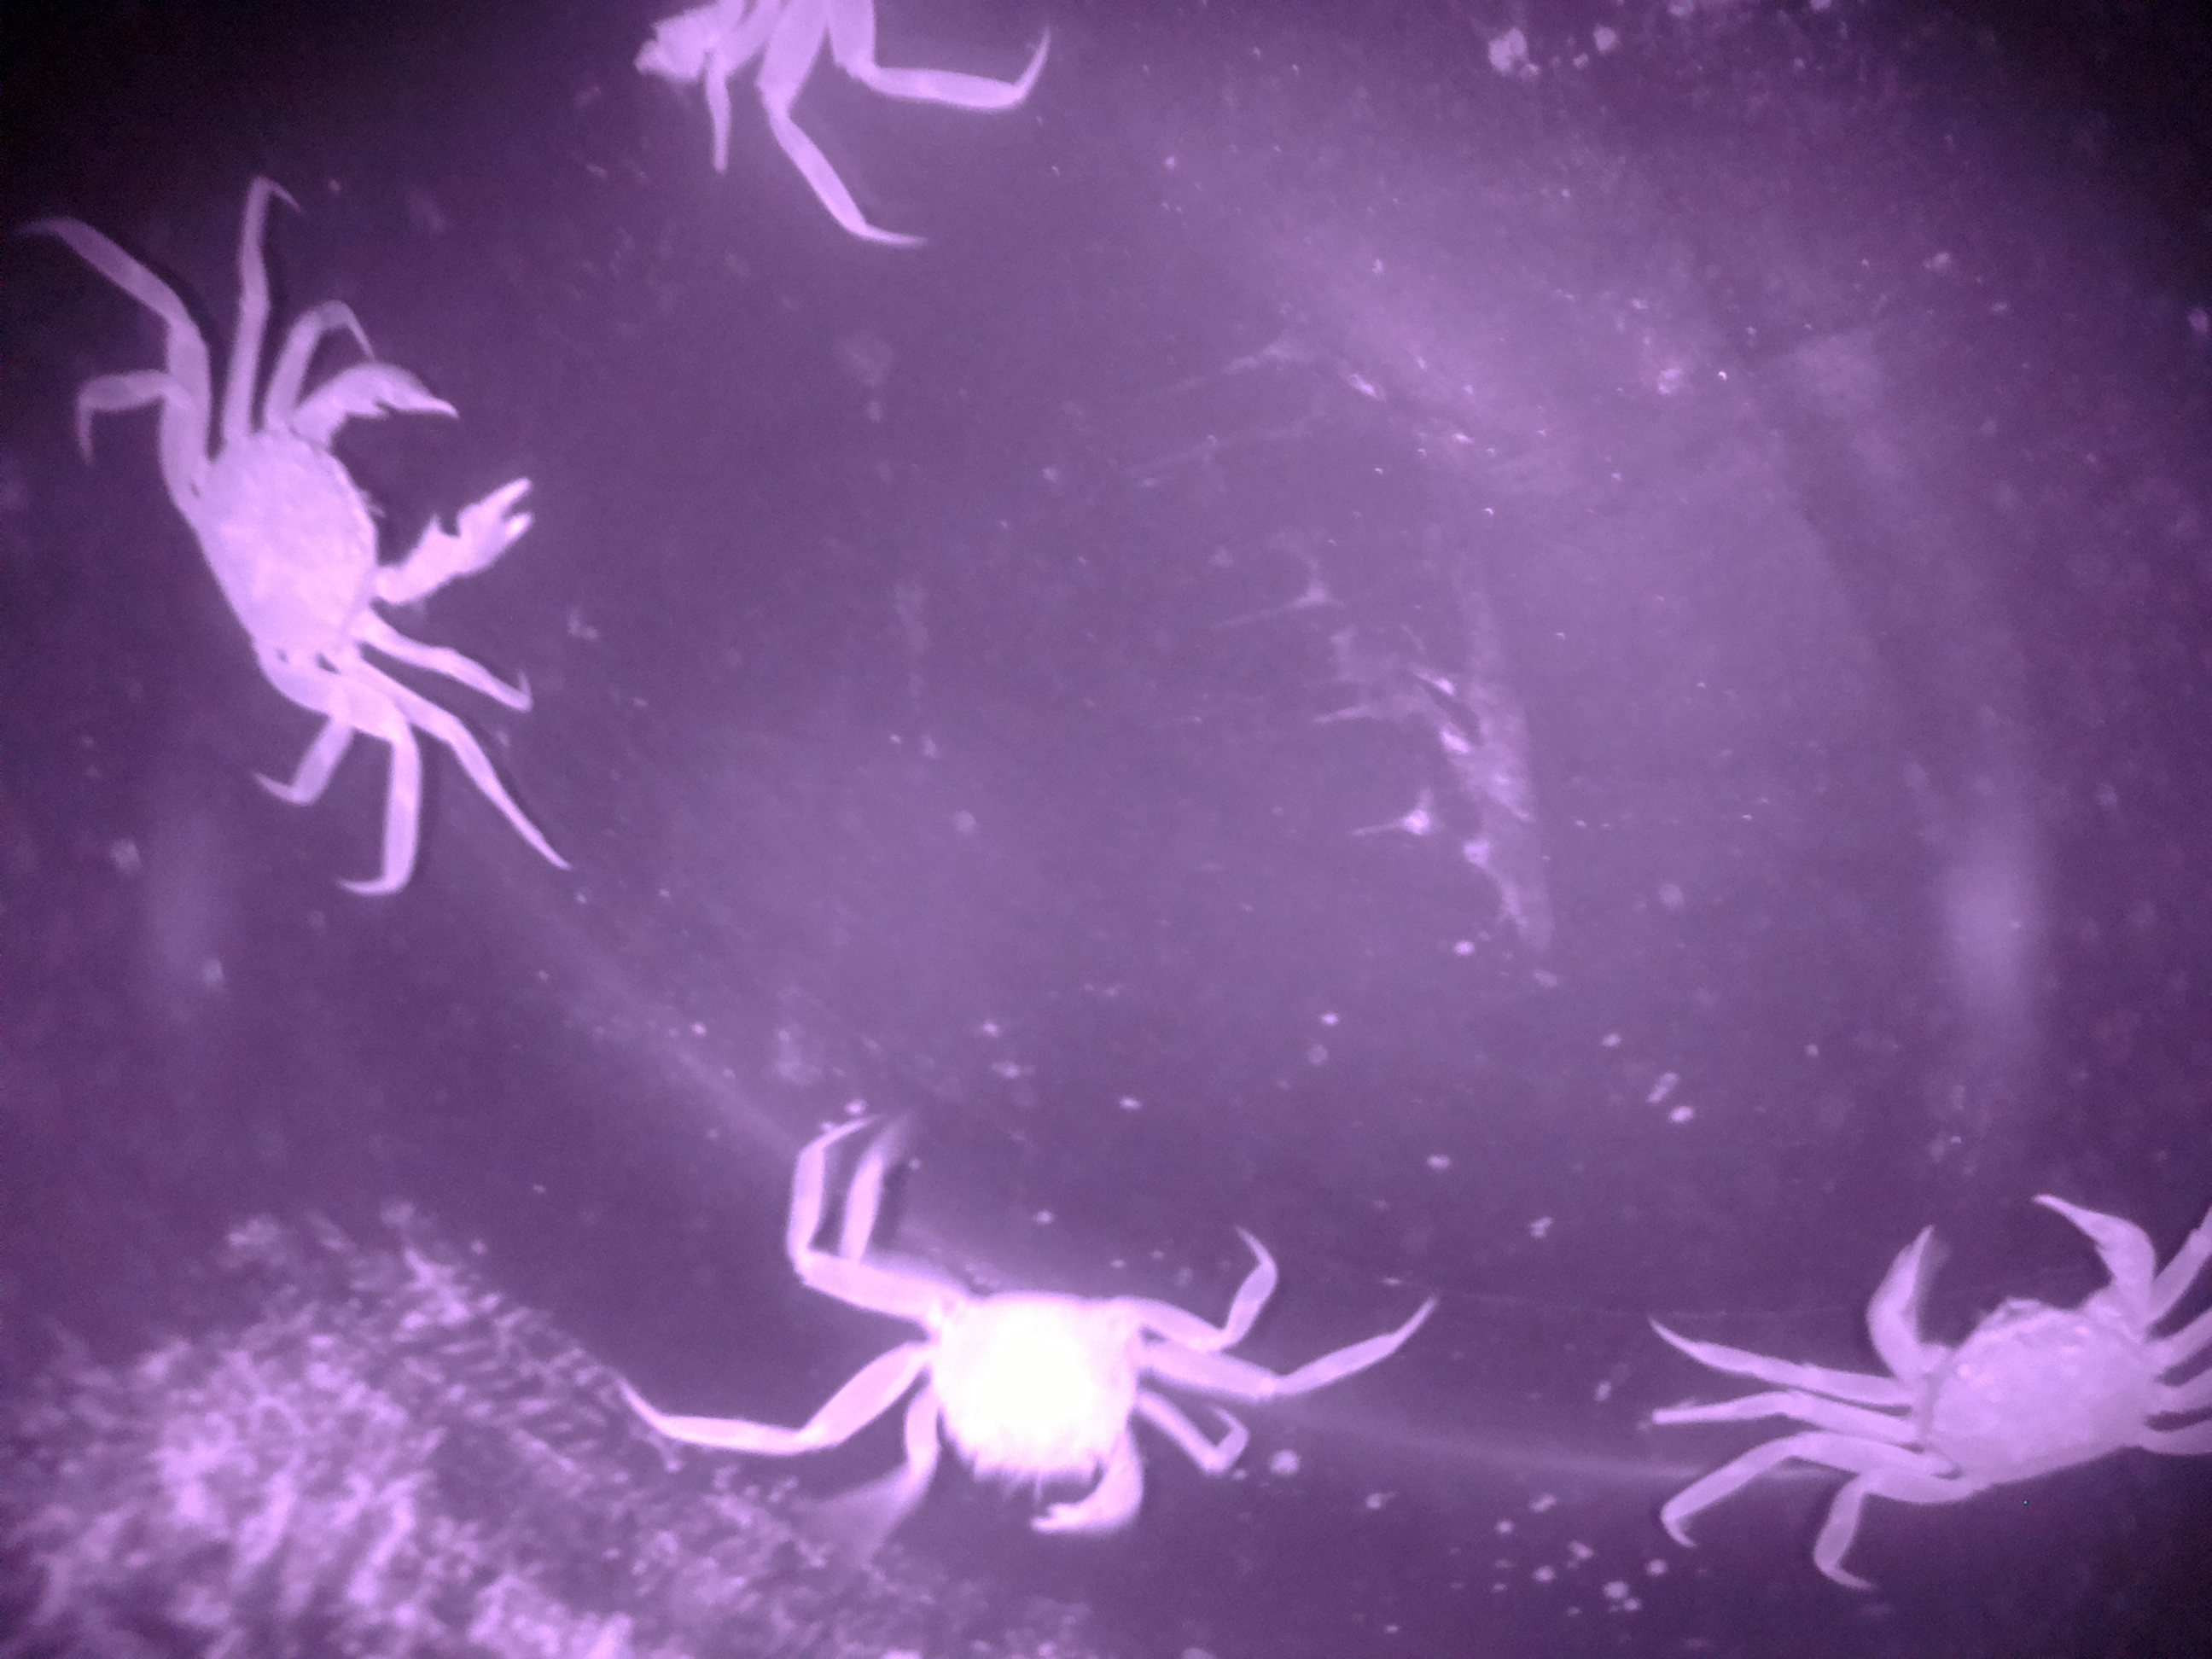Crab: (42, 317, 578, 746), (765, 1192, 1242, 1579), (1789, 1159, 2212, 1540)
